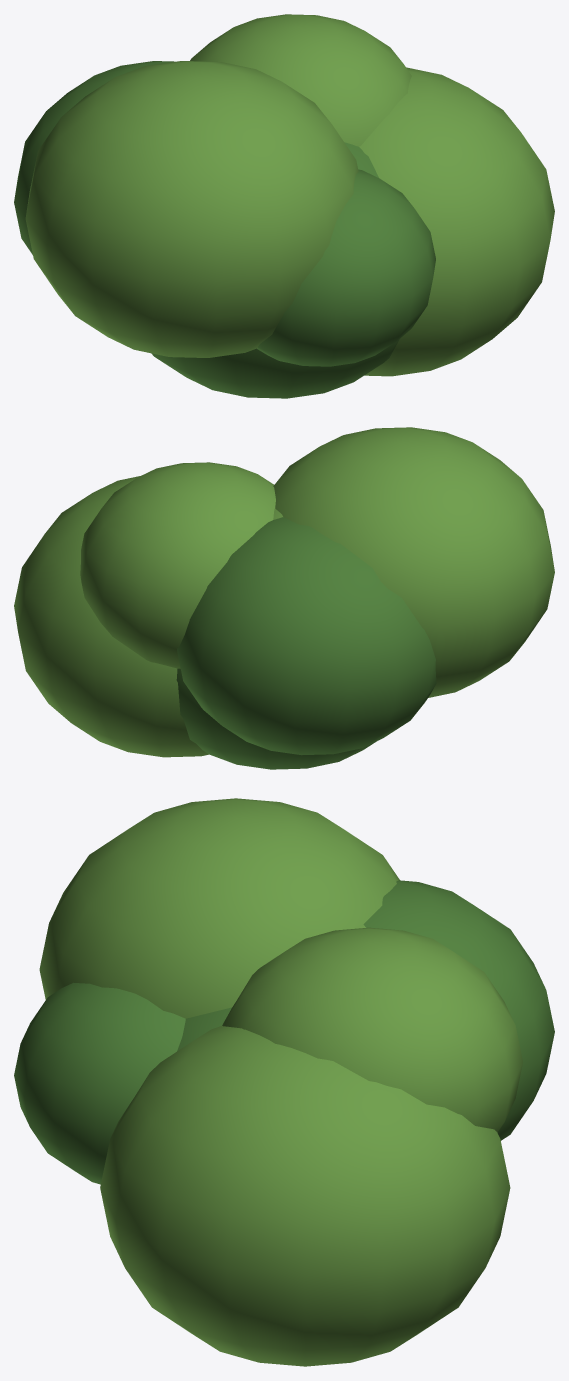
The model's file is bush2.glb.
3 views of the same model, one above another, from view 1: azimuth 30°, elevation 25°; view 2: azimuth 150°, elevation 25°; view 3: azimuth 270°, elevation 25° (orthographic). The views are drawn at different scales.
Visible parts, largest first — view 1: b.009, b.011, b.010, b.013, b.014, b.012; view 2: b.009, b.012, b.013, b.011, b.014; view 3: b.011, b.009, b.013, b.010, b.012, b.014.
Boxes of the visible parts, x1=… form: b.009: x1=25, y1=61, x2=358, y2=357; b.011: x1=359, y1=67, x2=554, y2=376; b.010: x1=257, y1=169, x2=435, y2=366; b.013: x1=190, y1=14, x2=411, y2=146; b.014: x1=151, y1=142, x2=399, y2=398; b.012: x1=14, y1=61, x2=174, y2=254; b.009: x1=273, y1=427, x2=554, y2=697; b.012: x1=177, y1=517, x2=436, y2=755; b.013: x1=80, y1=462, x2=275, y2=668; b.011: x1=14, y1=476, x2=208, y2=757; b.014: x1=176, y1=668, x2=376, y2=769; b.011: x1=100, y1=1026, x2=510, y2=1366; b.009: x1=39, y1=798, x2=399, y2=1018; b.013: x1=222, y1=927, x2=522, y2=1132; b.010: x1=14, y1=982, x2=185, y2=1184; b.012: x1=363, y1=880, x2=554, y2=1140; b.014: x1=177, y1=1007, x2=231, y2=1051.
Size of the model in its own units: 0.8344 by 0.5488 by 0.6595.
